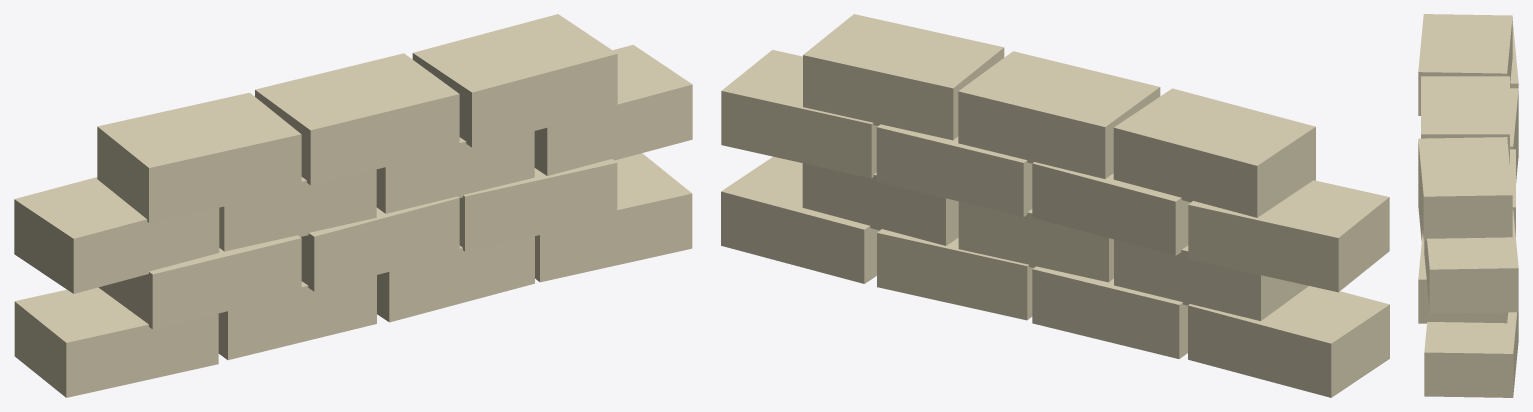
The model's file is sandbag_bunker_wall.glb.
3 views of the same model, side by side, from view 1: azimuth 30°, elevation 25°; view 2: azimuth 150°, elevation 25°; view 3: azimuth 270°, elevation 25° (orthographic). The views are drawn at different scales.
Visible parts, largest first — view 1: sandbag_bunker_wall; view 2: sandbag_bunker_wall; view 3: sandbag_bunker_wall.
Boxes of the visible parts, left/top/right/bottom form: sandbag_bunker_wall: left=14, top=14, right=692, bottom=397; sandbag_bunker_wall: left=721, top=14, right=1389, bottom=397; sandbag_bunker_wall: left=1418, top=14, right=1518, bottom=397.
Size of the model in its own units: 2.86 by 0.93 by 0.4968.
